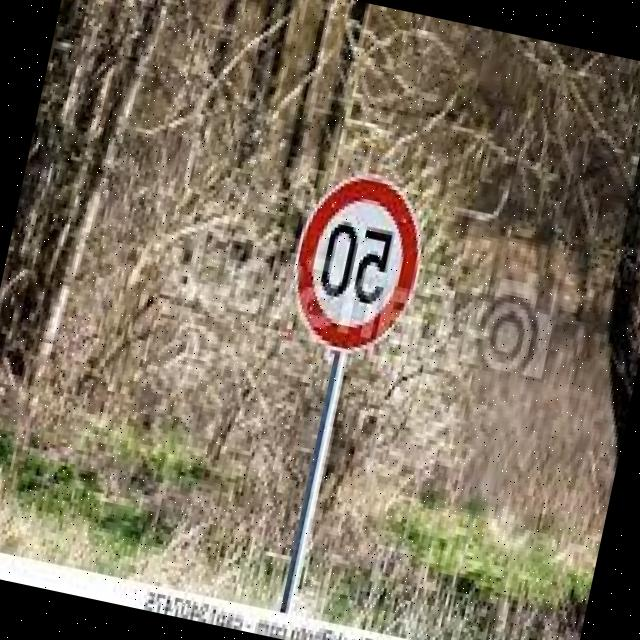speed_limit_50: (268, 146, 442, 366)
